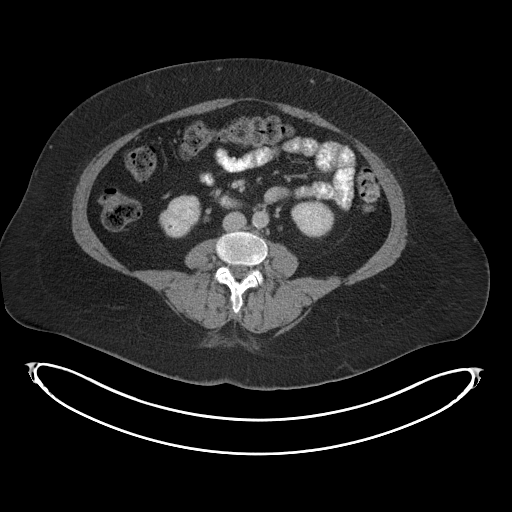Lesion: (166, 222, 174, 232)
